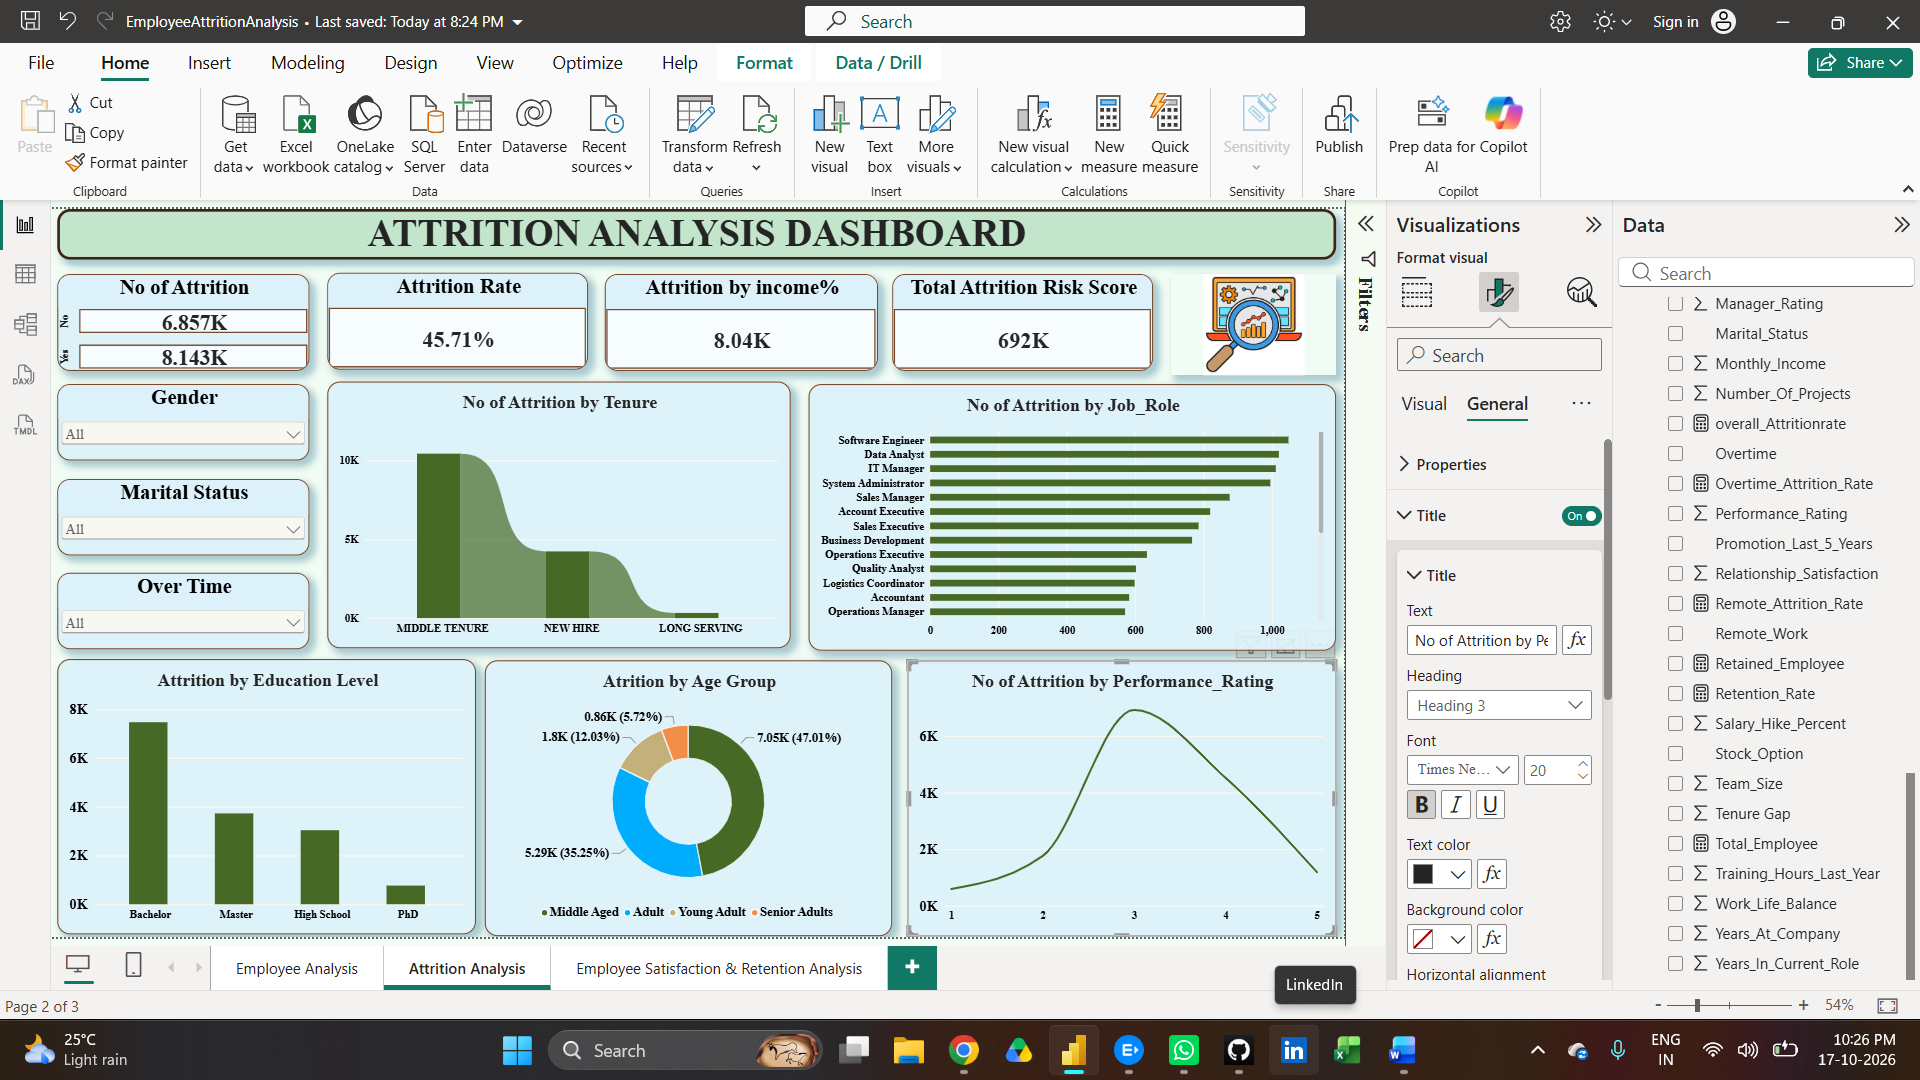

What the dashboard file says about the page in this screenshot:
{"tool":"powerbi","page":{"name":"Attrition Analysis","canvas":[1920,1080],"ordinal":1},"visuals":[{"type":"textbox","box":[9.2,0,1898.4,75.2],"z":0},{"type":"cardVisual","title":"No of Attrition","fields":{"Data":["CountNonNull(Attrition Analysis.Atrition)"],"Rows":["Attrition Analysis.Atrition"]},"box":[9.2,97.2,374.5,143.9],"z":1000},{"type":"cardVisual","title":"Attrition Rate","fields":{"Data":["Table1.Attrition_Rate"]},"box":[410.9,95.4,387.4,143.9],"z":2000},{"type":"cardVisual","title":"Attrition  by income%","fields":{"Data":["Table1.Average_Income_Attrition"]},"box":[821.7,97.2,405.8,143.9],"z":3000},{"type":"cardVisual","title":"Total Attrition Risk Score","fields":{"Data":["Sum(Table1.Attrition_Risk_Score)"]},"box":[1249.1,97.2,387.4,143.9],"z":4000},{"type":"columnChart","title":"Attrition by Education Level","fields":{"Category":["Table1.Education_Level"],"Y":["CountNonNull(Table1.Attrition)"]},"box":[9.2,667.7,621.8,409],"z":5000},{"type":"ribbonChart","title":"No of Attrition by Tenure","fields":{"Category":["Attrition Analysis.Tenure"],"Y":["CountNonNull(Table1.Attrition)"]},"box":[410.9,256.8,687.8,396.2],"z":6000},{"type":"lineChart","title":"No of Attrition by Performance_Rating","fields":{"Category":["Attrition Analysis.Performance_Rating"],"Y":["CountNonNull(Table1.Attrition)"]},"box":[1271,669.6,636.4,409.5],"z":7000},{"type":"pieChart","title":"Atrition by Age Group","fields":{"Category":["Attrition Analysis.Age Group"],"Y":["CountNonNull(Attrition Analysis.Atrition)"]},"box":[643.8,669.6,605.1,409.5],"z":8000},{"type":"clusteredBarChart","title":"No of Attrition by Job_Role","fields":{"Category":["Table1.Job_Role"],"Y":["CountNonNull(Table1.Attrition)"]},"box":[1124.4,260.5,783.2,396.2],"z":9000},{"type":"slicer","title":"Gender","fields":{"Values":["Table1.Gender","Table1.Gender"]},"box":[9.2,260.5,374.2,113.7],"z":10000},{"type":"slicer","title":"Marital Status","fields":{"Values":["Table1.Marital_Status"]},"box":[9.2,399.9,374.2,113.7],"z":11000},{"type":"slicer","title":"Over Time","fields":{"Values":["Table1.Overtime"]},"box":[9.2,539.3,374.2,113.7],"z":12000},{"type":"image","box":[1661.8,97.2,245.8,150.4],"z":13000}]}

Visuals, with their boxes on the page's 1920x1080 design canvas (x1, y1, x2, y2). These are canvas units, not pixel positions in the 1920x1080 screenshot, which may show the page scaled, cropped or inside an application window:
textbox: 9:0:1908:75
"No of Attrition" cardVisual: 9:97:384:241
"Attrition Rate" cardVisual: 411:95:798:239
"Attrition  by income%" cardVisual: 822:97:1228:241
"Total Attrition Risk Score" cardVisual: 1249:97:1636:241
"Attrition by Education Level" columnChart: 9:668:631:1077
"No of Attrition by Tenure" ribbonChart: 411:257:1099:653
"No of Attrition by Performance_Rating" lineChart: 1271:670:1907:1079
"Atrition by Age Group" pieChart: 644:670:1249:1079
"No of Attrition by Job_Role" clusteredBarChart: 1124:260:1908:657
"Gender" slicer: 9:260:383:374
"Marital Status" slicer: 9:400:383:514
"Over Time" slicer: 9:539:383:653
image: 1662:97:1908:248
